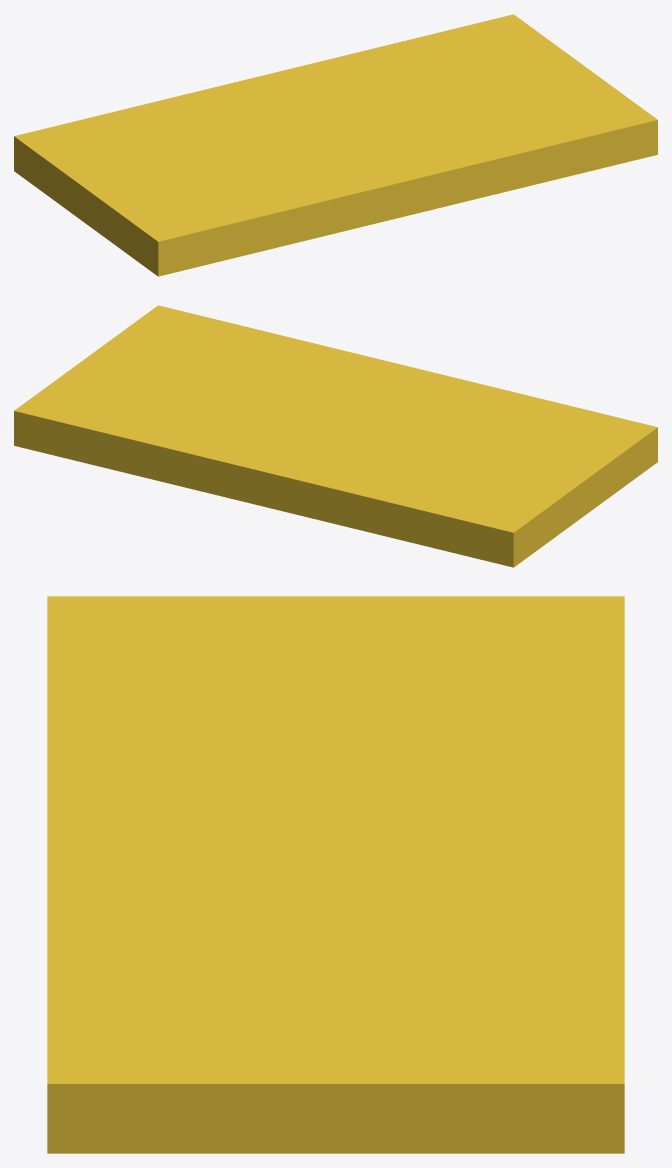
File: Floor_A_LineHalf_End_A.FBX
The picture shows the model from 3 angles, top to bottom: view 1: azimuth 30°, elevation 25°; view 2: azimuth 150°, elevation 25°; view 3: azimuth 270°, elevation 25°; orthographic projection. The views are drawn at different scales.
Visible parts, largest first — view 1: Floor_A_LineHalf_End_A; view 2: Floor_A_LineHalf_End_A; view 3: Floor_A_LineHalf_End_A.
Boxes of the visible parts, bbox=[...] form: Floor_A_LineHalf_End_A: bbox=[14, 14, 657, 276]; Floor_A_LineHalf_End_A: bbox=[14, 305, 657, 567]; Floor_A_LineHalf_End_A: bbox=[47, 596, 624, 1153].
Bounding box in the file's own units: 300 × 20 × 150.
